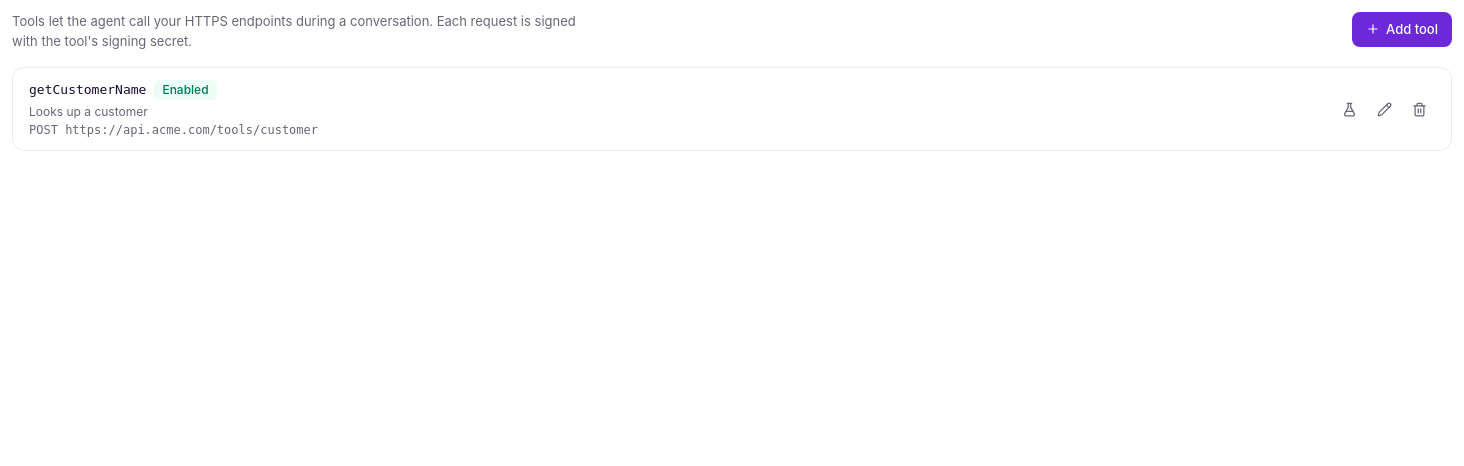
Scenario: ToolsPanel test call › explains a failure
Click the button named "Test getCustomerName" at x=1350, y=109, box [1334,94,1365,124]
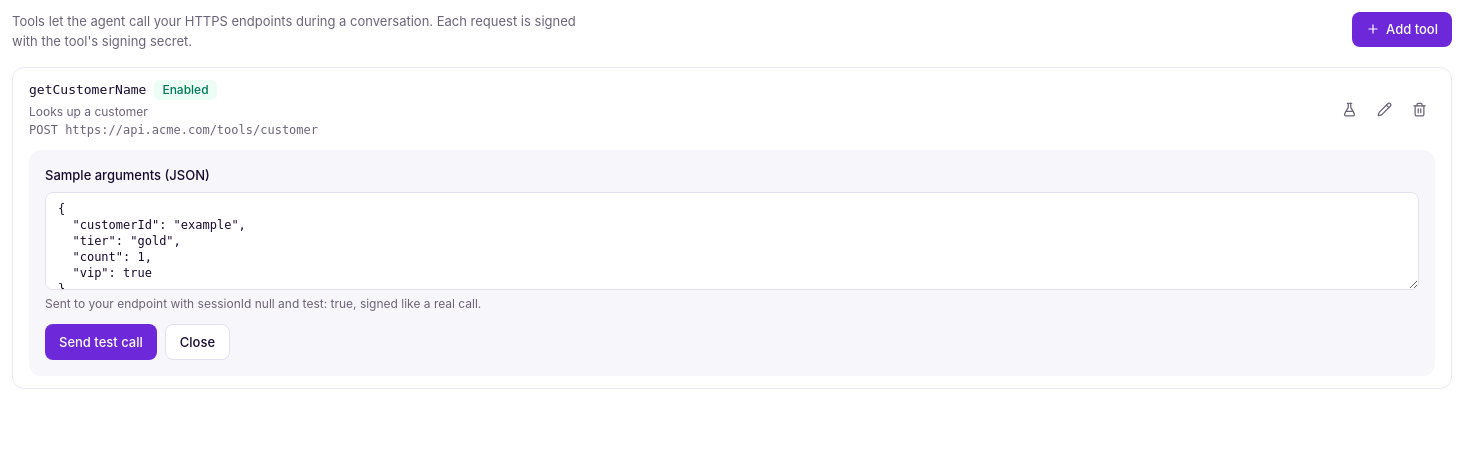
Click the button "Send test call" at x=101, y=342, box [45,324,157,360]
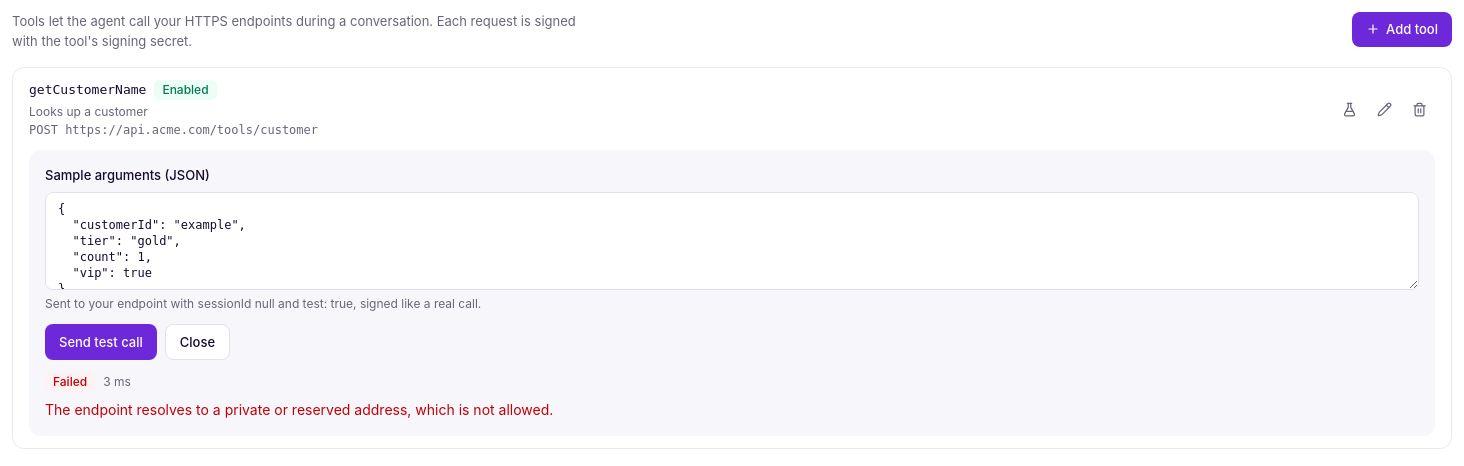
Expected: the text "Failed" is shown, [45,372,95,392]
Expected: the text "private or reserved address" is shown, [45,401,553,418]
